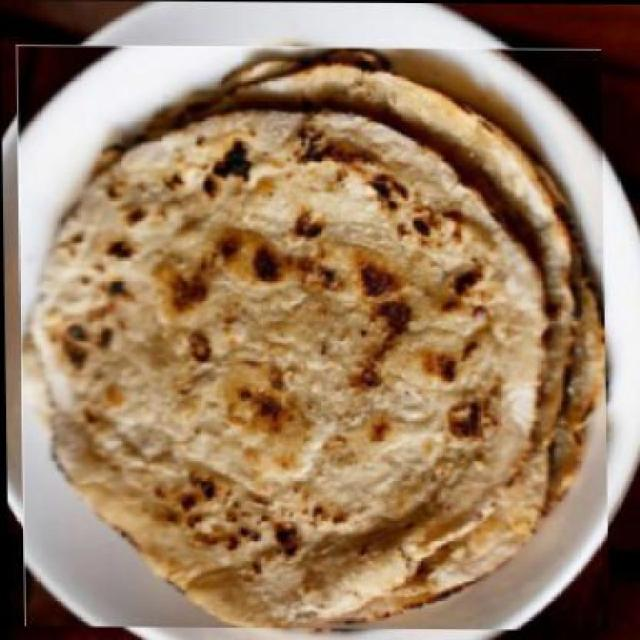chapati: (16, 44, 609, 631)
